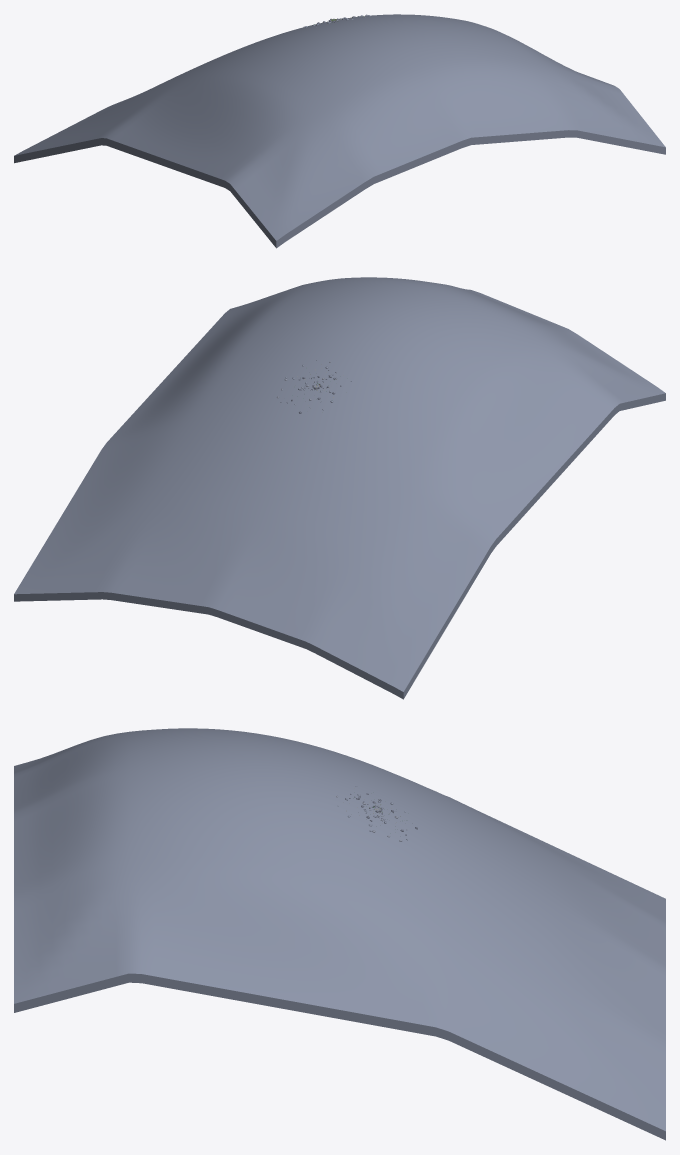
File: m8_sion_nest.glb
3 renders of one model, top to bottom at view 1: azimuth 30°, elevation 25°; view 2: azimuth 150°, elevation 25°; view 3: azimuth 270°, elevation 25°, orthographic. The views are drawn at different scales.
Parts seen in each view (by area): view 1: m8_sion_nest_mount_rock_far; view 2: m8_sion_nest_mount_rock_far; view 3: m8_sion_nest_mount_rock_far.
Boxes of the visible parts, x1=… form: m8_sion_nest_mount_rock_far: x1=14, y1=14, x2=665, y2=248; m8_sion_nest_mount_rock_far: x1=14, y1=277, x2=665, y2=699; m8_sion_nest_mount_rock_far: x1=14, y1=728, x2=665, y2=1140.
Bounding box in the file's own units: 330 × 170 × 385.
